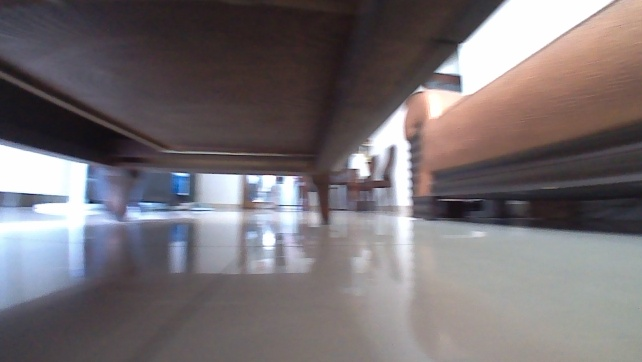sofa1: (402, 0, 641, 221)
